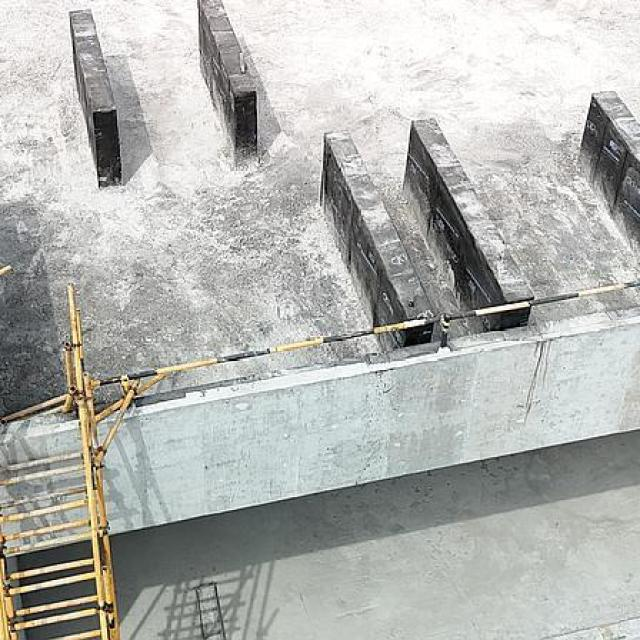edge_guardrail: (85, 279, 640, 397)
